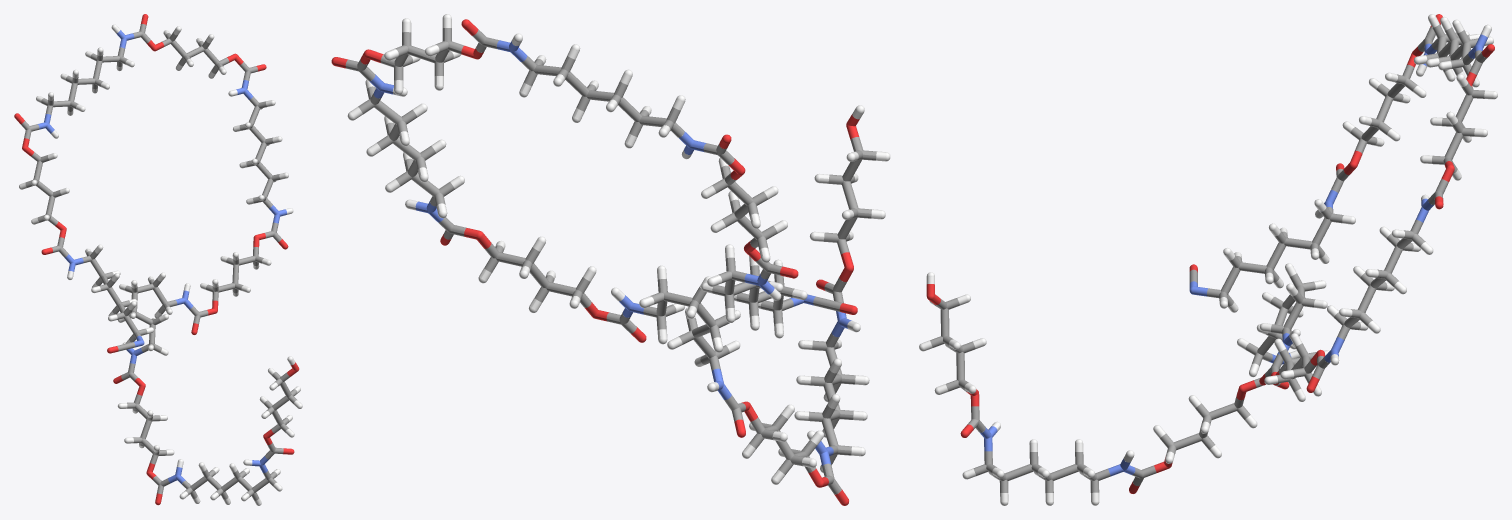
File: PolyurethanLinearStick.glb
The picture shows the model from 3 angles, left to right: view 1: azimuth 30°, elevation 25°; view 2: azimuth 150°, elevation 25°; view 3: azimuth 270°, elevation 25°; orthographic projection. The views are drawn at different scales.
Bounding box in the file's own units: 1.53 × 2.1 × 2.09.
